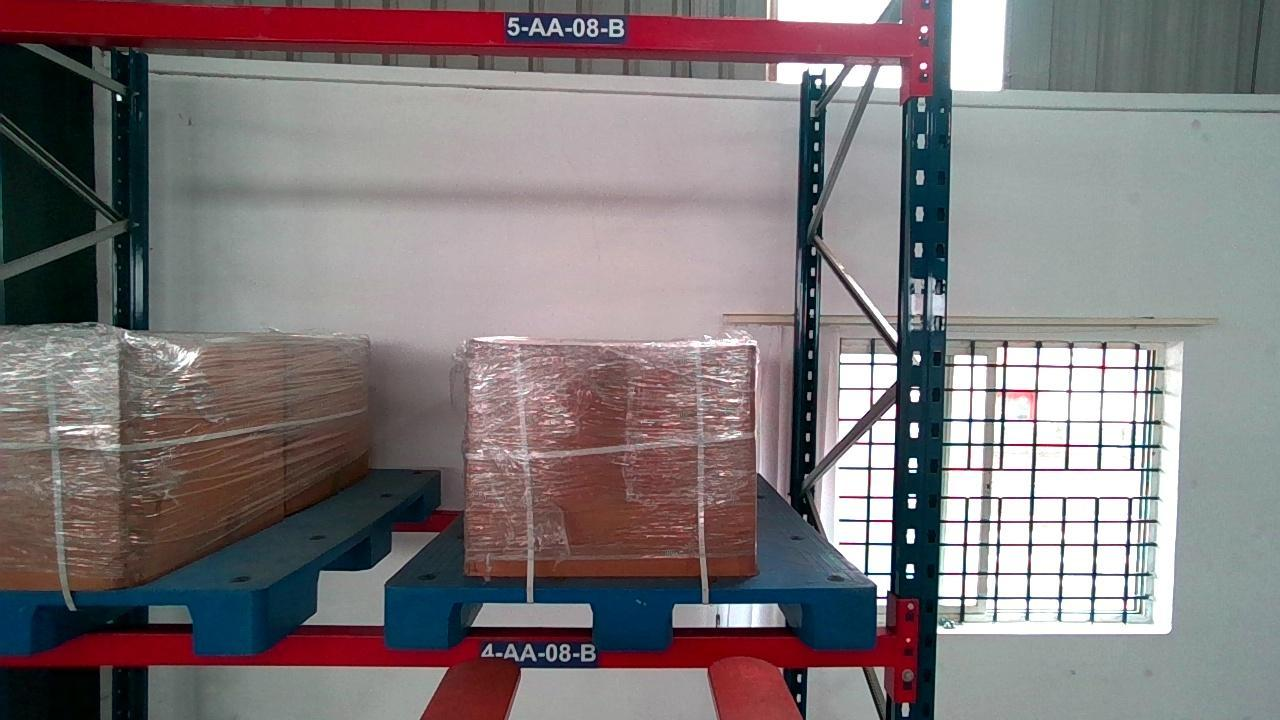h_rack: (0, 0, 906, 55), (0, 630, 896, 667)
small_pallet: (384, 580, 876, 648), (0, 590, 259, 656)
